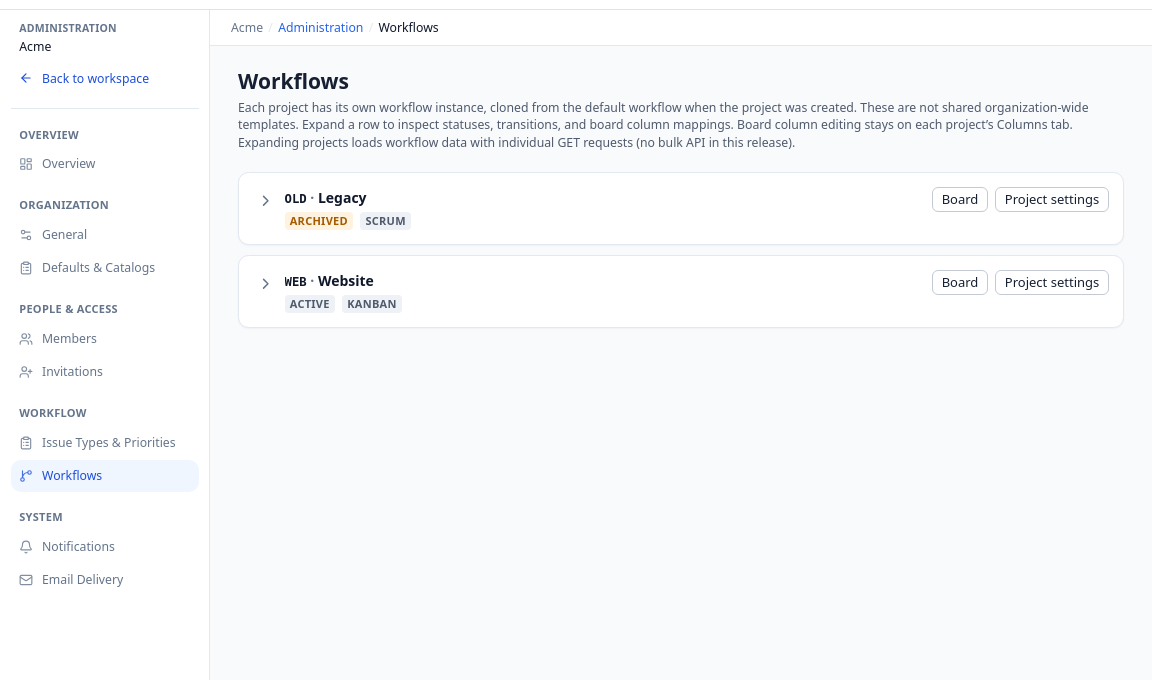
AdminWorkflowHubPage › shows workflow name, ordered statuses, initial badge, transitions, and project context
Click the button named "Expand workflow details for WEB" in the row of "Website": coordinates (265, 284) [253,272,278,296]
(page scrolled)
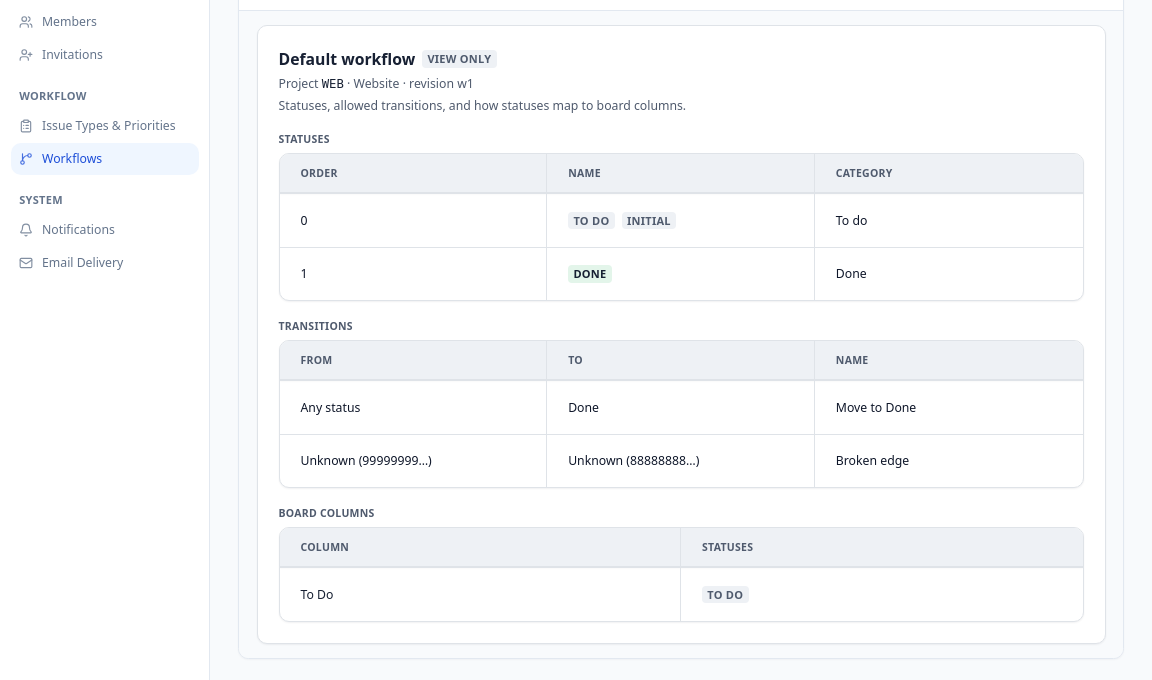
Expected: the text "View only" is shown, [422,50,497,68]
Expected: the row "0 To Do Initial To do" is shown, [280,193,1082,246]
Expected: the row "1 Done Done" is shown, [280,246,1082,300]
